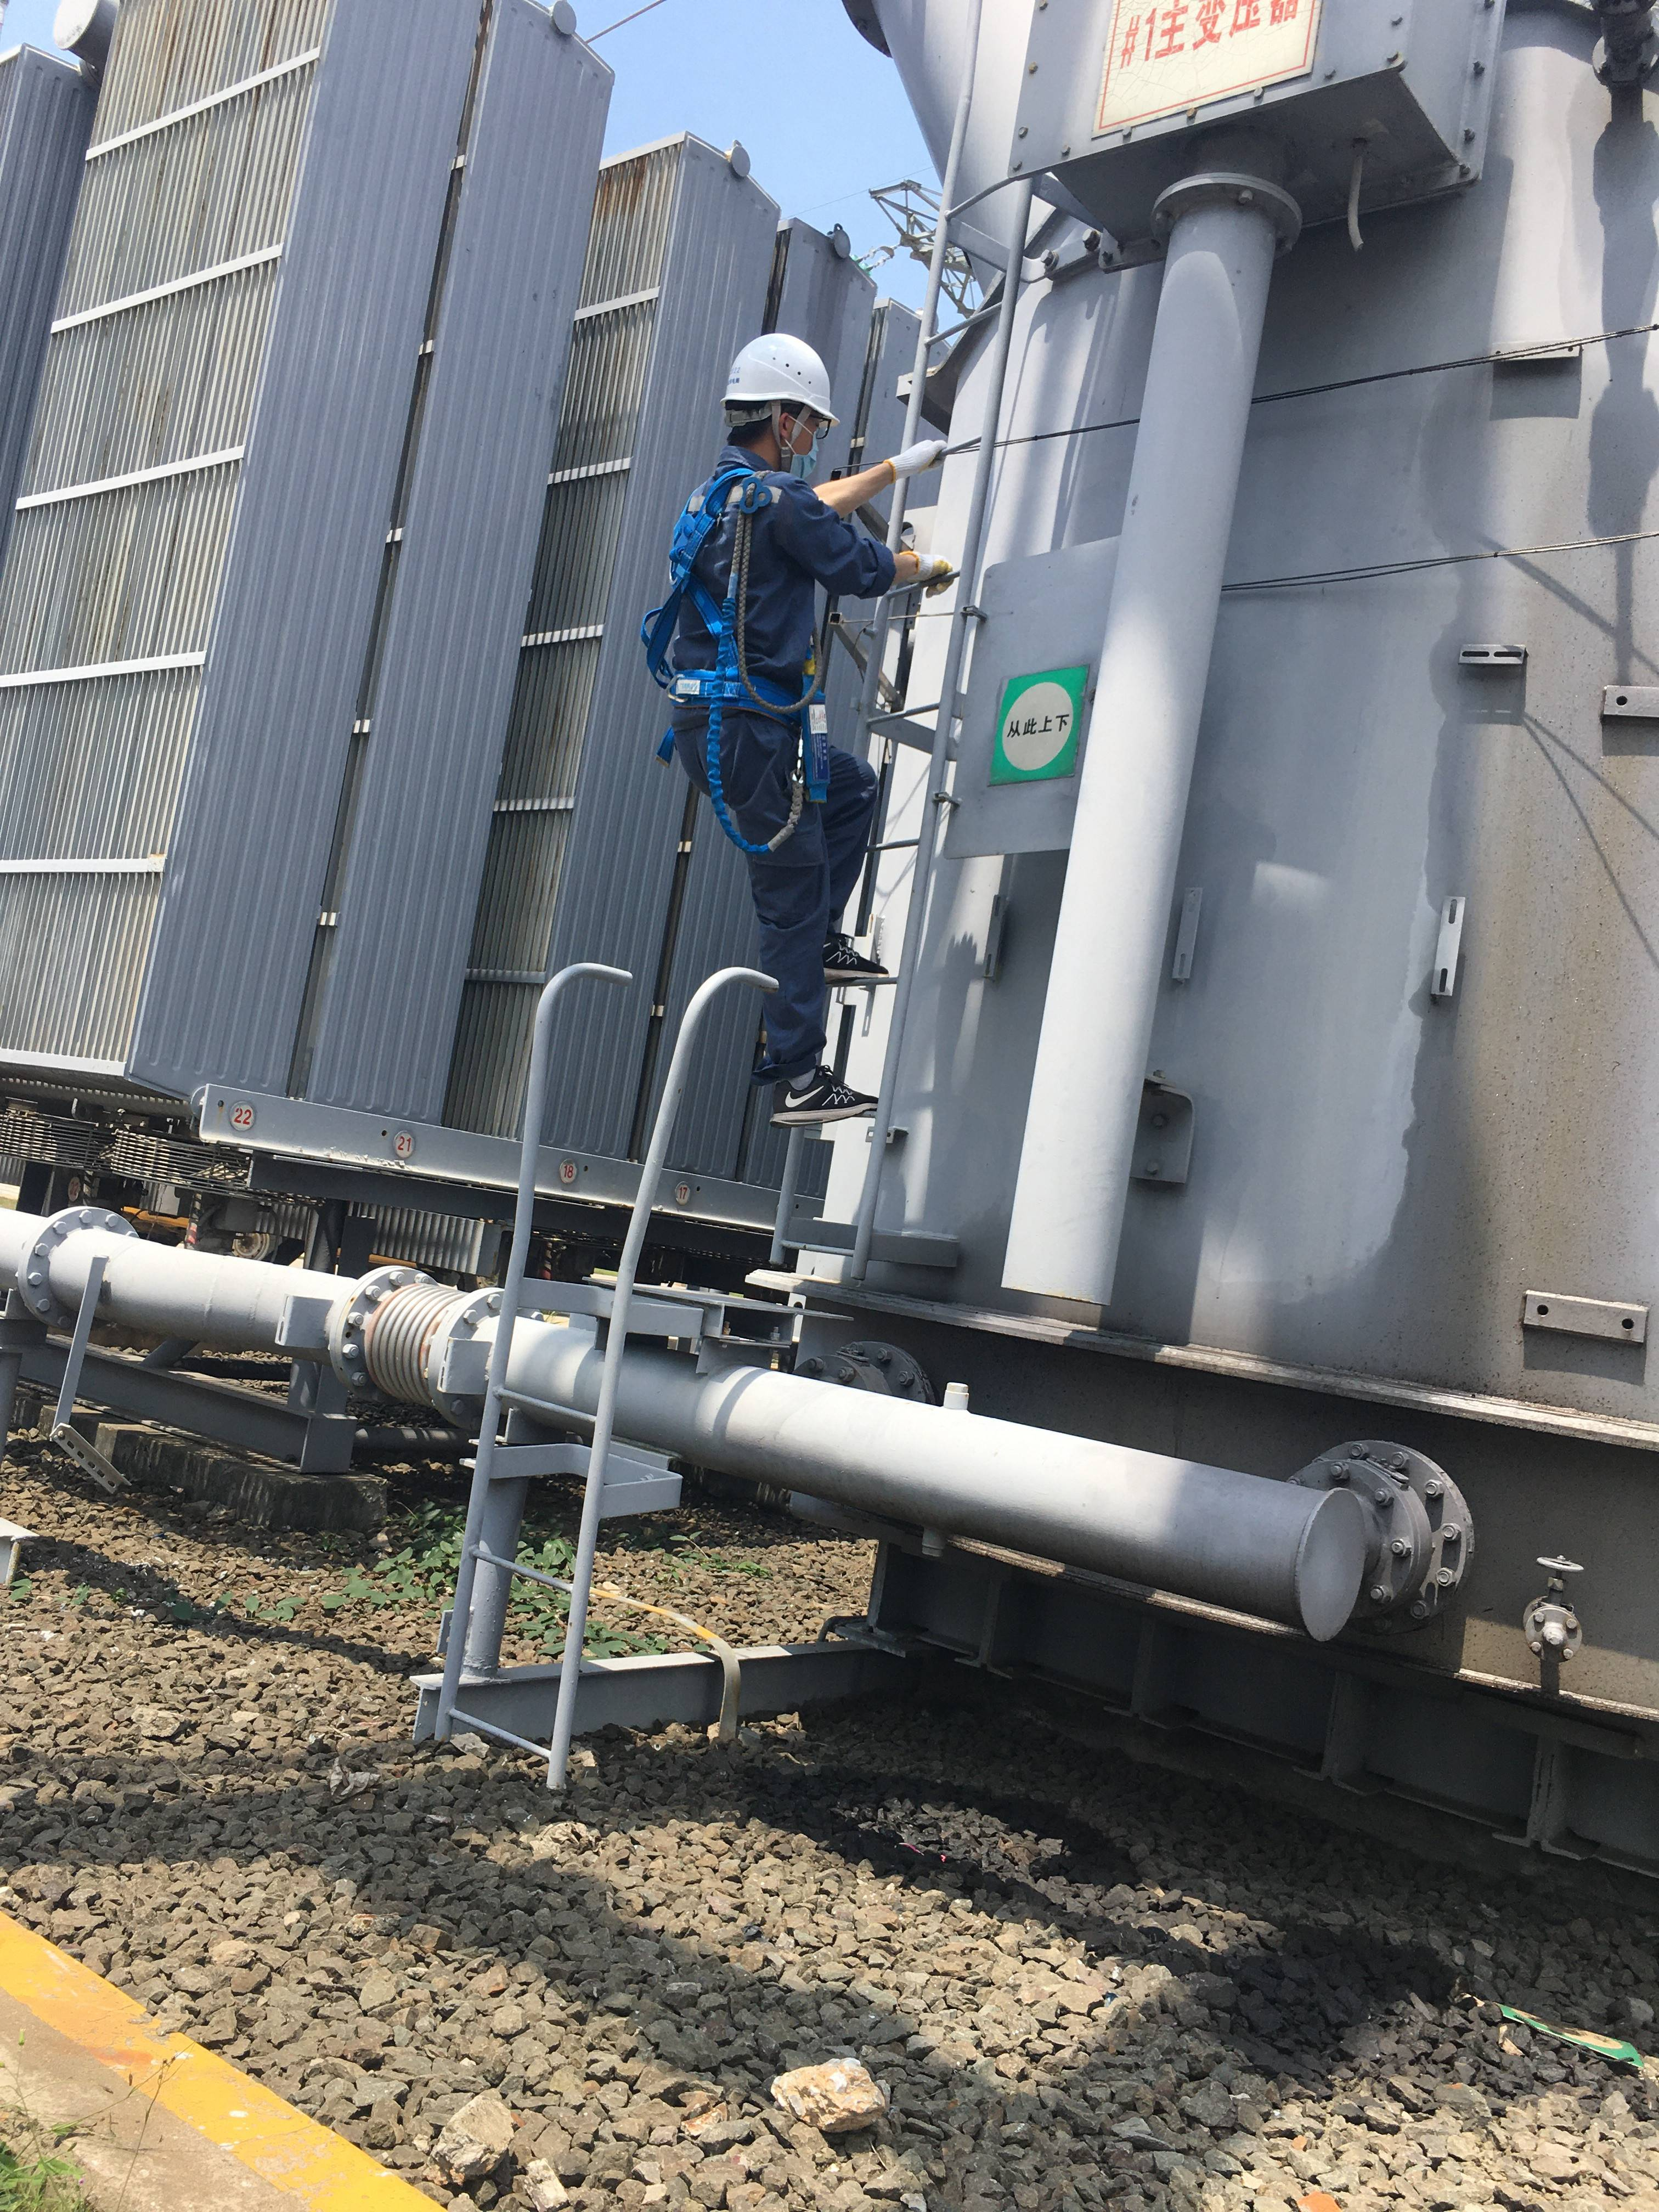downsuit: (687, 738, 892, 1076)
upsuit: (643, 444, 904, 698)
wrongtop: (812, 460, 904, 516), (863, 538, 925, 596)
